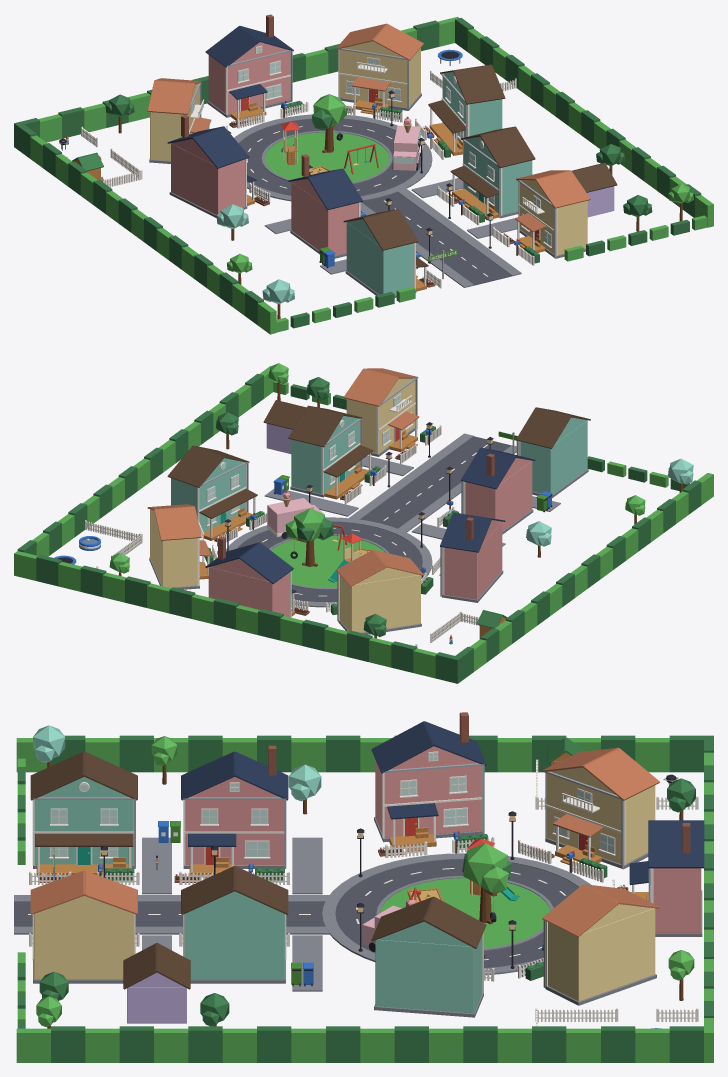
The model's file is CatCafe_Neighbourhood_Set.glb.
The picture shows the model from 3 angles, top to bottom: view 1: azimuth 30°, elevation 25°; view 2: azimuth 150°, elevation 25°; view 3: azimuth 270°, elevation 25°; orthographic projection. The views are drawn at different scales.
Parts seen in each view (by area): view 1: CatCafe_Neighbourhood_Set_085_BorderHedge, CatCafe_Neighbourhood_Set, CatCafe_Neighbourhood_Set_024_HouseFrontA, CatCafe_Neighbourhood_Set_030_HouseFrontC, CatCafe_Neighbourhood_Set_048_HouseFrontA, CatCafe_Neighbourhood_Set_000_HouseFrontB, CatCafe_Neighbourhood_Set_006_HouseFrontC, CatCafe_Neighbourhood_Set_018_HouseFrontB, CatCafe_Neighbourhood_Set_012_HouseFrontA, CatCafe_Neighbourhood_Set_042_HouseFrontB, CatCafe_Neighbourhood_Set_086_Trees, CatCafe_Neighbourhood_Set_036_HouseFrontC (+4 smaller); view 2: CatCafe_Neighbourhood_Set_085_BorderHedge, CatCafe_Neighbourhood_Set, CatCafe_Neighbourhood_Set_018_HouseFrontB, CatCafe_Neighbourhood_Set_036_HouseFrontC, CatCafe_Neighbourhood_Set_042_HouseFrontB, CatCafe_Neighbourhood_Set_006_HouseFrontC, CatCafe_Neighbourhood_Set_048_HouseFrontA, CatCafe_Neighbourhood_Set_024_HouseFrontA, CatCafe_Neighbourhood_Set_000_HouseFrontB, CatCafe_Neighbourhood_Set_012_HouseFrontA, CatCafe_Neighbourhood_Set_030_HouseFrontC, CatCafe_Neighbourhood_Set_086_Trees (+4 smaller); view 3: CatCafe_Neighbourhood_Set_085_BorderHedge, CatCafe_Neighbourhood_Set, CatCafe_Neighbourhood_Set_048_HouseFrontA, CatCafe_Neighbourhood_Set_042_HouseFrontB, CatCafe_Neighbourhood_Set_030_HouseFrontC, CatCafe_Neighbourhood_Set_018_HouseFrontB, CatCafe_Neighbourhood_Set_036_HouseFrontC, CatCafe_Neighbourhood_Set_012_HouseFrontA, CatCafe_Neighbourhood_Set_000_HouseFrontB, CatCafe_Neighbourhood_Set_006_HouseFrontC, CatCafe_Neighbourhood_Set_024_HouseFrontA, CatCafe_Neighbourhood_Set_086_Trees (+8 smaller).
Part boxes in pixels (x1,y1,x2,y2): CatCafe_Neighbourhood_Set_085_BorderHedge: (14,16,713,334); CatCafe_Neighbourhood_Set: (234,114,521,287); CatCafe_Neighbourhood_Set_024_HouseFrontA: (205,14,293,121); CatCafe_Neighbourhood_Set_030_HouseFrontC: (336,23,423,114); CatCafe_Neighbourhood_Set_048_HouseFrontA: (167,114,256,217); CatCafe_Neighbourhood_Set_000_HouseFrontB: (343,209,428,297); CatCafe_Neighbourhood_Set_006_HouseFrontC: (515,170,590,258); CatCafe_Neighbourhood_Set_018_HouseFrontB: (450,126,535,220); CatCafe_Neighbourhood_Set_012_HouseFrontA: (288,154,362,258); CatCafe_Neighbourhood_Set_042_HouseFrontB: (428,64,505,155); CatCafe_Neighbourhood_Set_086_Trees: (105,94,693,319); CatCafe_Neighbourhood_Set_036_HouseFrontC: (147,78,211,163); CatCafe_Neighbourhood_Set_085_BorderHedge: (14,366,713,683); CatCafe_Neighbourhood_Set: (226,433,560,607); CatCafe_Neighbourhood_Set_018_HouseFrontB: (288,405,373,499); CatCafe_Neighbourhood_Set_036_HouseFrontC: (336,550,423,634); CatCafe_Neighbourhood_Set_042_HouseFrontB: (167,445,257,540); CatCafe_Neighbourhood_Set_006_HouseFrontC: (343,368,419,456); CatCafe_Neighbourhood_Set_048_HouseFrontA: (439,512,505,602); CatCafe_Neighbourhood_Set_024_HouseFrontA: (205,536,296,617); CatCafe_Neighbourhood_Set_000_HouseFrontB: (516,407,590,498); CatCafe_Neighbourhood_Set_012_HouseFrontA: (460,448,535,534); CatCafe_Neighbourhood_Set_030_HouseFrontC: (147,504,211,589); CatCafe_Neighbourhood_Set_086_Trees: (109,363,693,638); CatCafe_Neighbourhood_Set_085_BorderHedge: (16,735,713,1062); CatCafe_Neighbourhood_Set: (14,837,590,991); CatCafe_Neighbourhood_Set_048_HouseFrontA: (371,712,486,851); CatCafe_Neighbourhood_Set_042_HouseFrontB: (371,896,486,1017); CatCafe_Neighbourhood_Set_030_HouseFrontC: (542,884,659,1005); CatCafe_Neighbourhood_Set_018_HouseFrontB: (181,866,288,983); CatCafe_Neighbourhood_Set_036_HouseFrontC: (542,747,659,869); CatCafe_Neighbourhood_Set_012_HouseFrontA: (181,745,288,879); CatCafe_Neighbourhood_Set_000_HouseFrontB: (30,751,137,877); CatCafe_Neighbourhood_Set_006_HouseFrontC: (30,870,137,983); CatCafe_Neighbourhood_Set_024_HouseFrontA: (629,820,704,936); CatCafe_Neighbourhood_Set_086_Trees: (33,725,695,1028).
Bounding box in the file's own units: 139 × 23.51 × 140.
Materials: 1 (1 with a texture image).
